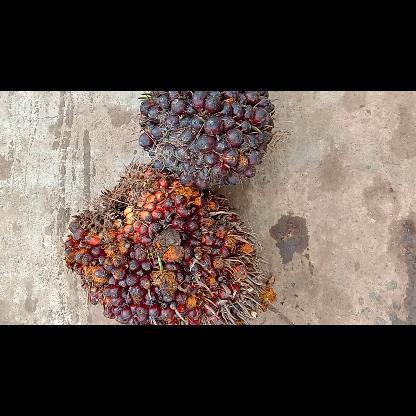TBS masak: (63, 158, 267, 324)
TBS mentah: (138, 90, 274, 188)
